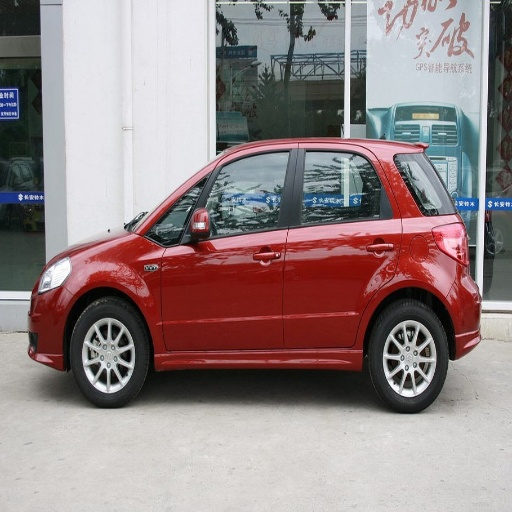back_left_door: (284, 144, 399, 347)
front_left_door: (157, 144, 297, 352)
